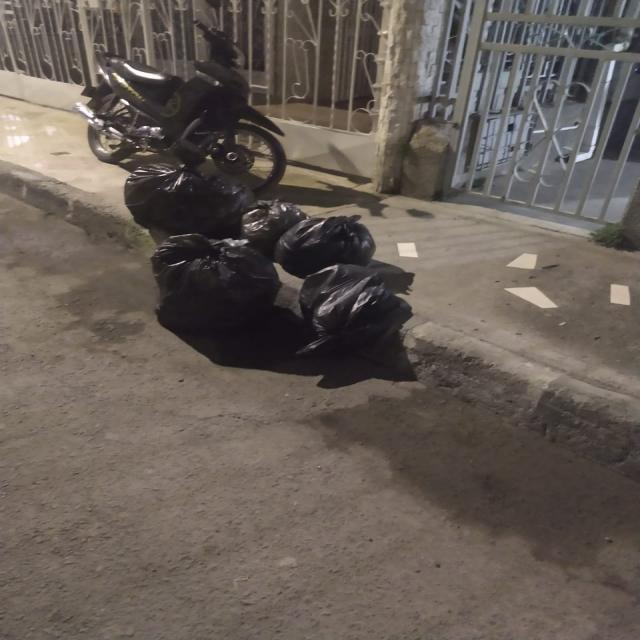high trash: (125, 164, 411, 353)
less trash: (505, 286, 558, 309), (508, 252, 538, 269), (610, 284, 630, 304), (398, 242, 418, 257)
